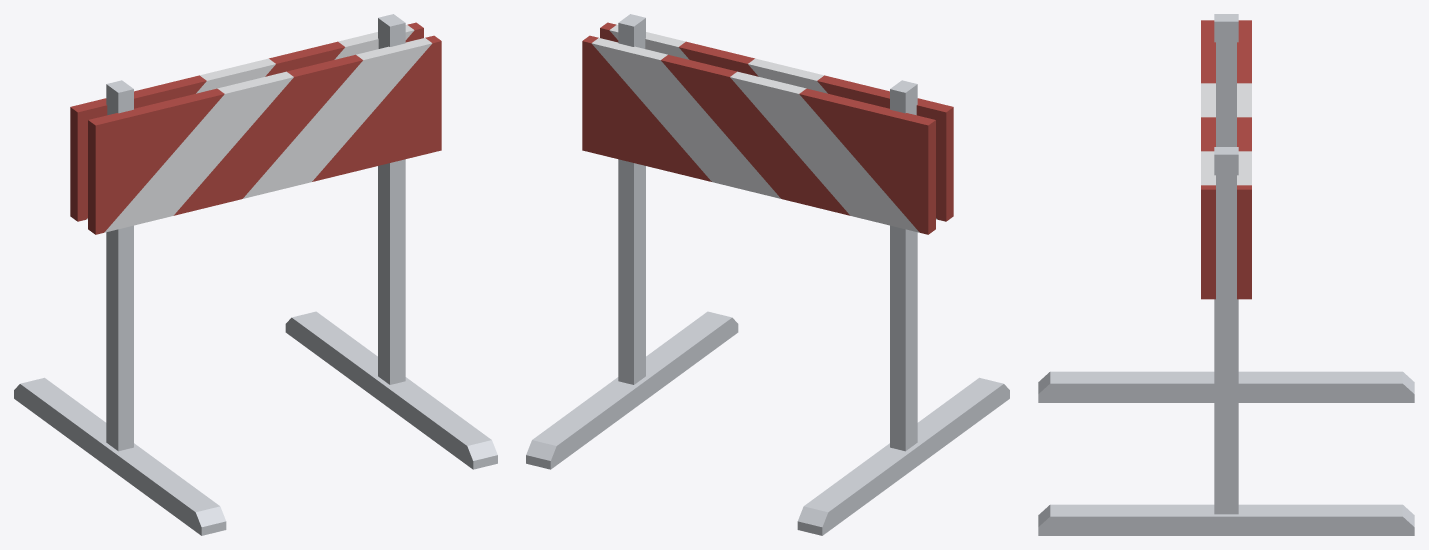
File: Wood_Road_Block_Small_004.glb
3 views of the same model, side by side, from view 1: azimuth 30°, elevation 25°; view 2: azimuth 150°, elevation 25°; view 3: azimuth 270°, elevation 25° (orthographic).
Parts seen in each view (by area): view 1: Wood Road Block Small.004; view 2: Wood Road Block Small.004; view 3: Wood Road Block Small.004.
Part boxes in pixels (x1,y1,x2,y2): Wood Road Block Small.004: (14, 14, 497, 535); Wood Road Block Small.004: (526, 14, 1009, 535); Wood Road Block Small.004: (1038, 14, 1414, 535).
Bounding box in the file's own units: 6.62 × 6.91 × 6.21.
Materials: 1 (1 with a texture image).
